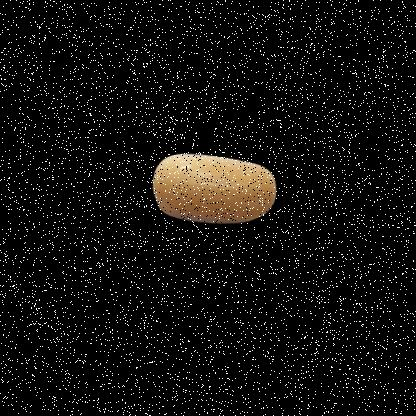t-muse: (142, 119, 297, 246)
